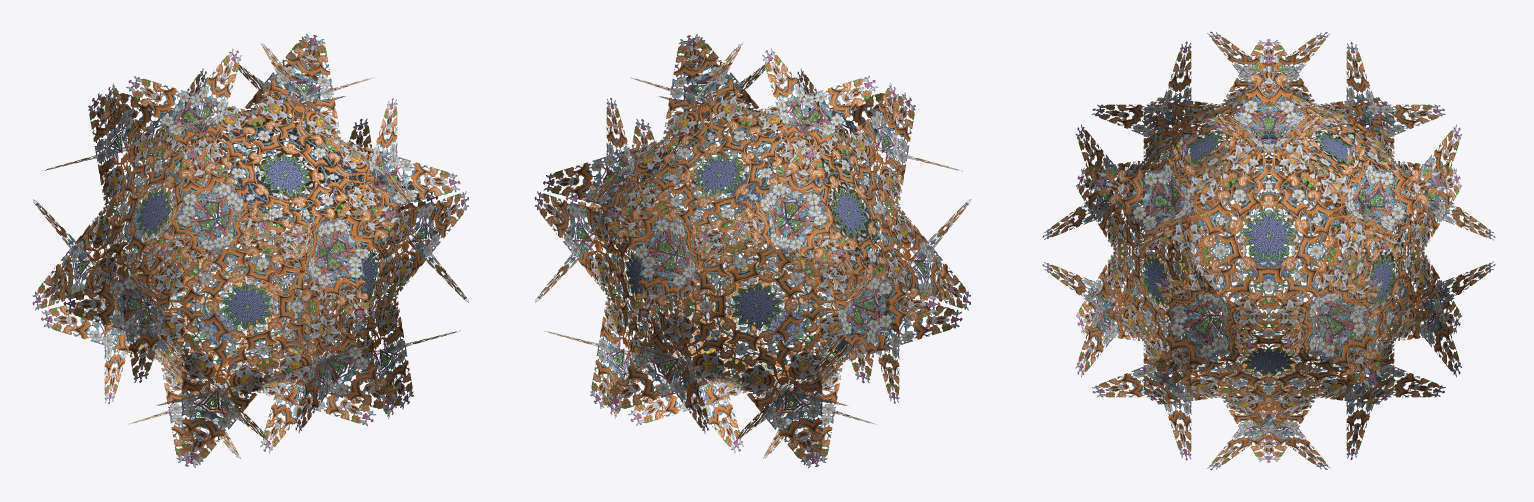
File: 8GreatIcosidodecahedron.gltf
The picture shows the model from 3 angles, left to right: view 1: azimuth 30°, elevation 25°; view 2: azimuth 150°, elevation 25°; view 3: azimuth 270°, elevation 25°; orthographic projection.
Parts seen in each view (by area): view 1: GreatIcosidodecahedron8; view 2: GreatIcosidodecahedron8; view 3: GreatIcosidodecahedron8.
Part boxes in pixels (<box>): GreatIcosidodecahedron8: <box>32,34,468,467</box>; GreatIcosidodecahedron8: <box>534,34,970,467</box>; GreatIcosidodecahedron8: <box>1042,31,1495,470</box>.
Size of the model in its own units: 1.24 by 1.24 by 1.24.
1 material, 1 textured.
